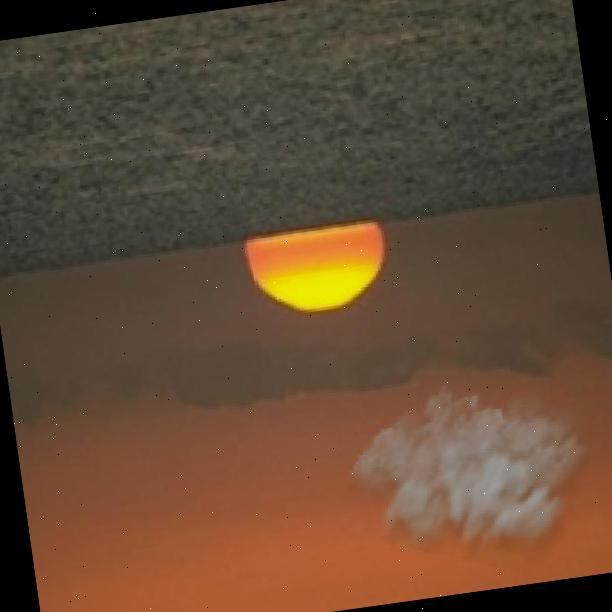smoke: (326, 362, 612, 599)
